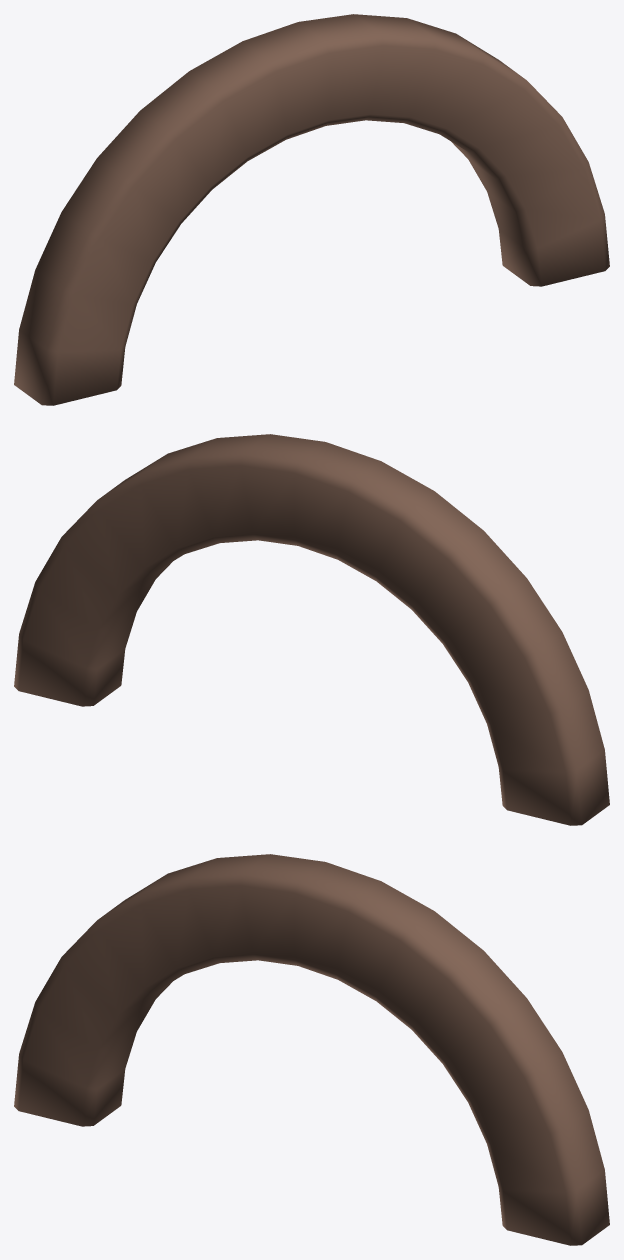
File: ArchMesh01.fbx
3 renders of one model, top to bottom at view 1: azimuth 30°, elevation 25°; view 2: azimuth 150°, elevation 25°; view 3: azimuth 330°, elevation 25°, orthographic.
Parts seen in each view (by area): view 1: Arch01_low; view 2: Arch01_low; view 3: Arch01_low.
Boxes of the visible parts, <box> form: Arch01_low: <box>14,14,609,405</box>; Arch01_low: <box>14,434,609,825</box>; Arch01_low: <box>14,854,609,1245</box>.
Bounding box in the file's own units: 5.79 × 2.86 × 0.6136.
